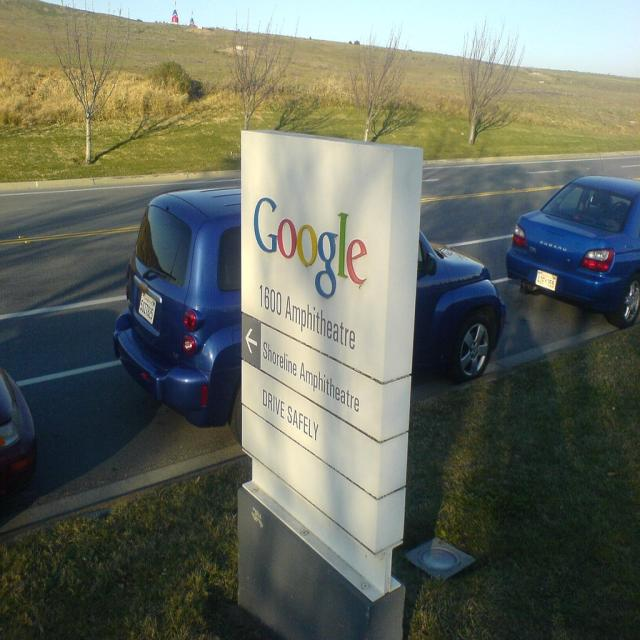google: (251, 195, 373, 303)
